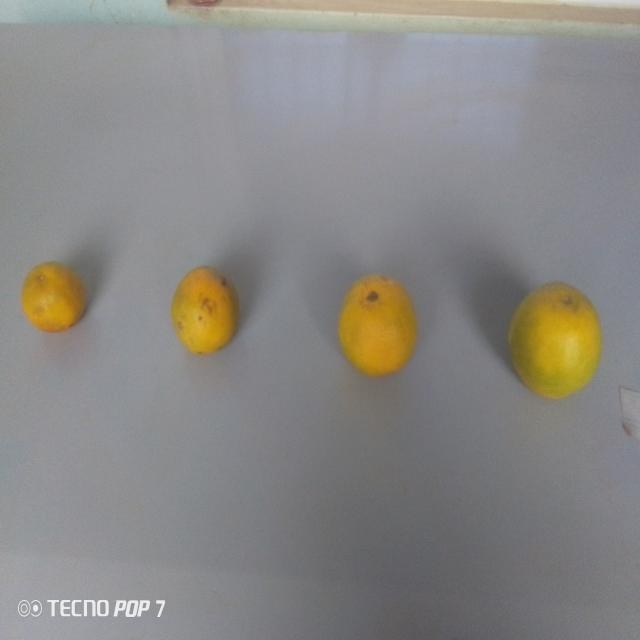agrume: (500, 257, 606, 408), (337, 265, 424, 383), (169, 256, 236, 357), (19, 255, 85, 342)
